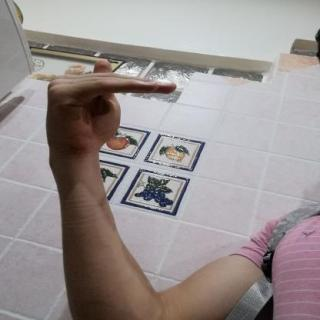KHAA: (27, 52, 185, 166)
